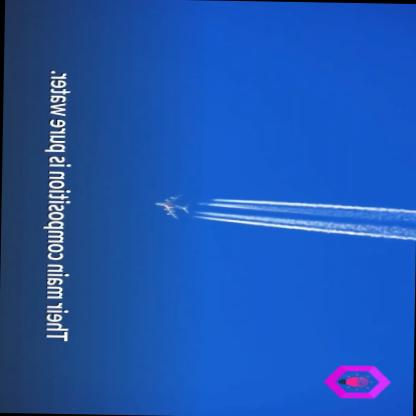plane: (150, 189, 194, 224)
